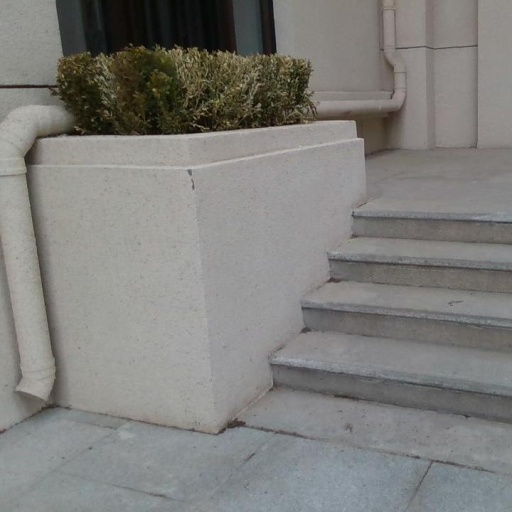Stairs: (243, 201, 512, 512)
